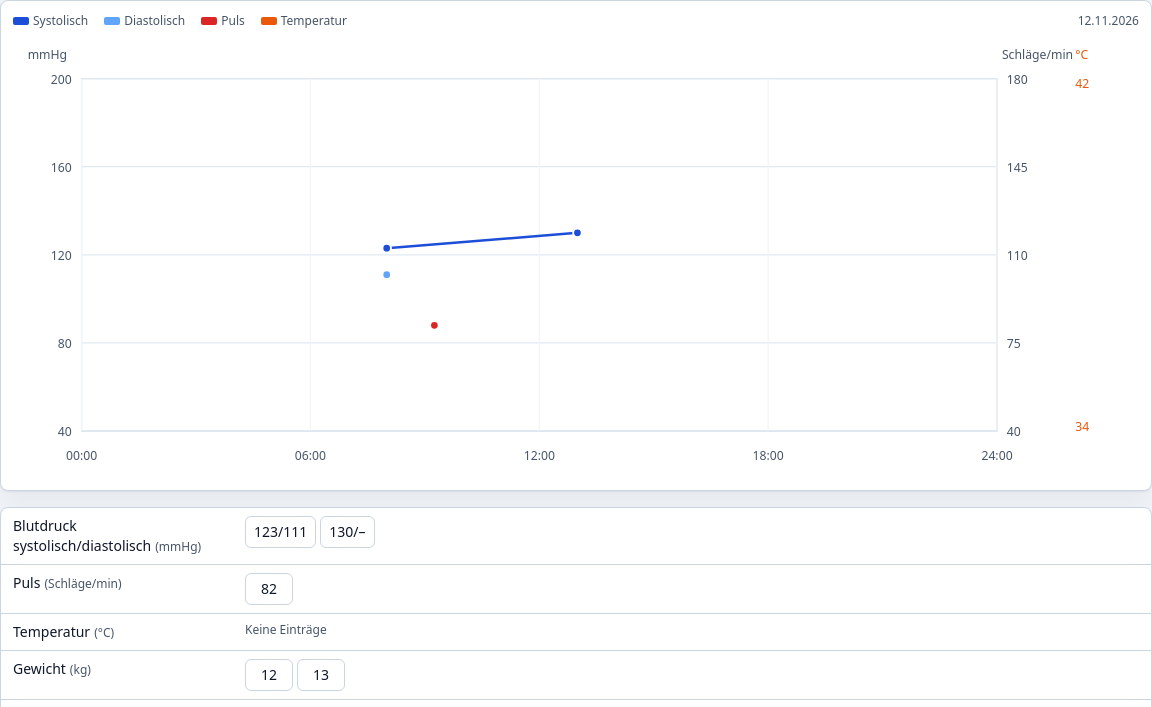
EntryRows › shows the date and time tooltip on hover and removes it on leave
Hover over the button named "Gewicht 12 kg, 12.11.2026 10:33" at coordinates (269, 675), box 245,659 -> 293,691
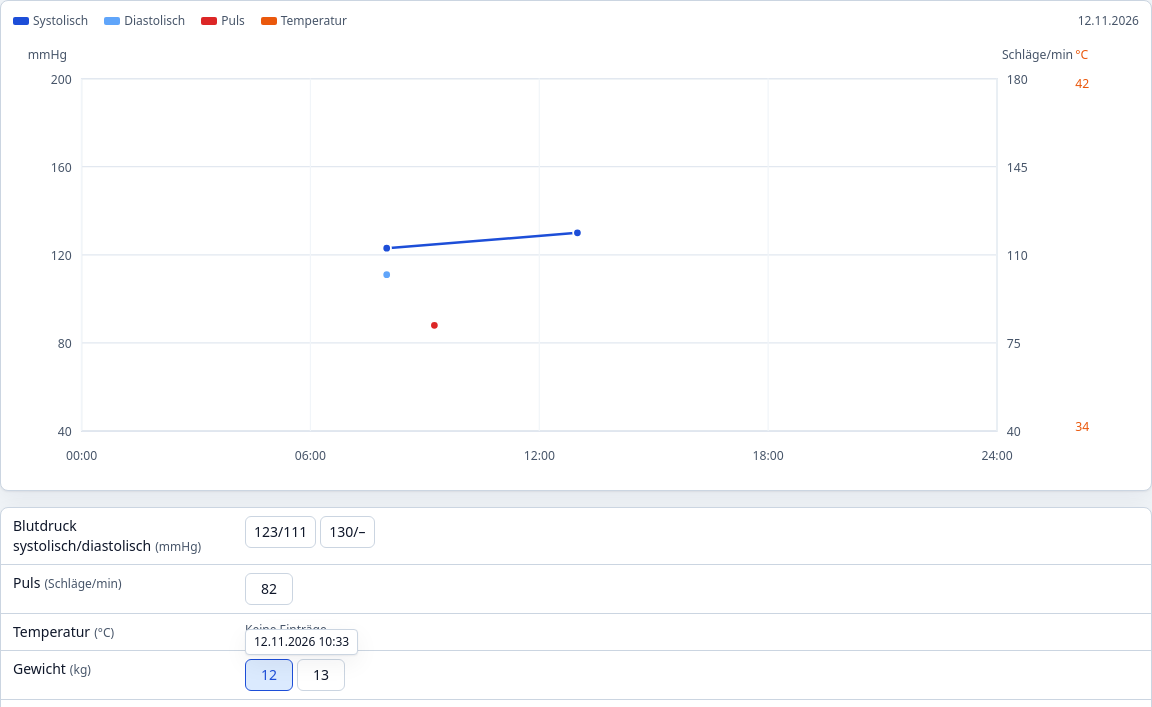
expect the tooltip reads "12.11.2026 10:33": met, box 254,633 -> 349,650
Move the pointer off the button named "Gewicht 12 kg, 12.11.2026 10:33", box 245,659 -> 293,691
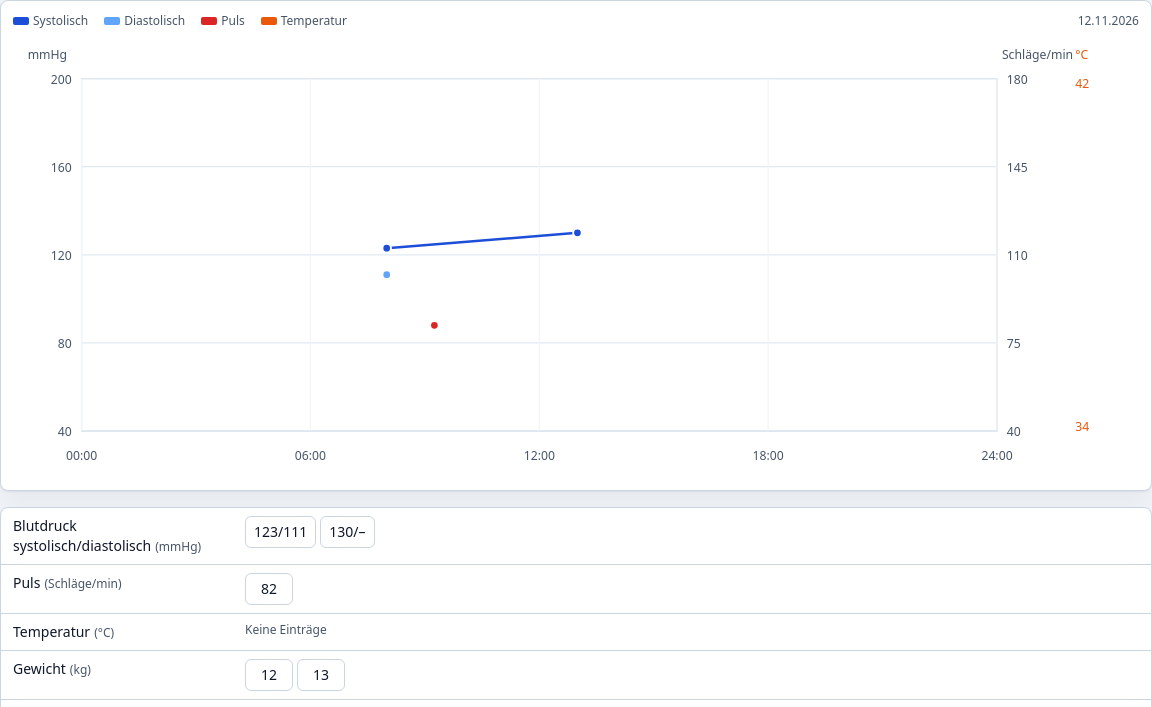
expect the tooltip "12.11.2026 10:33" is gone: met
